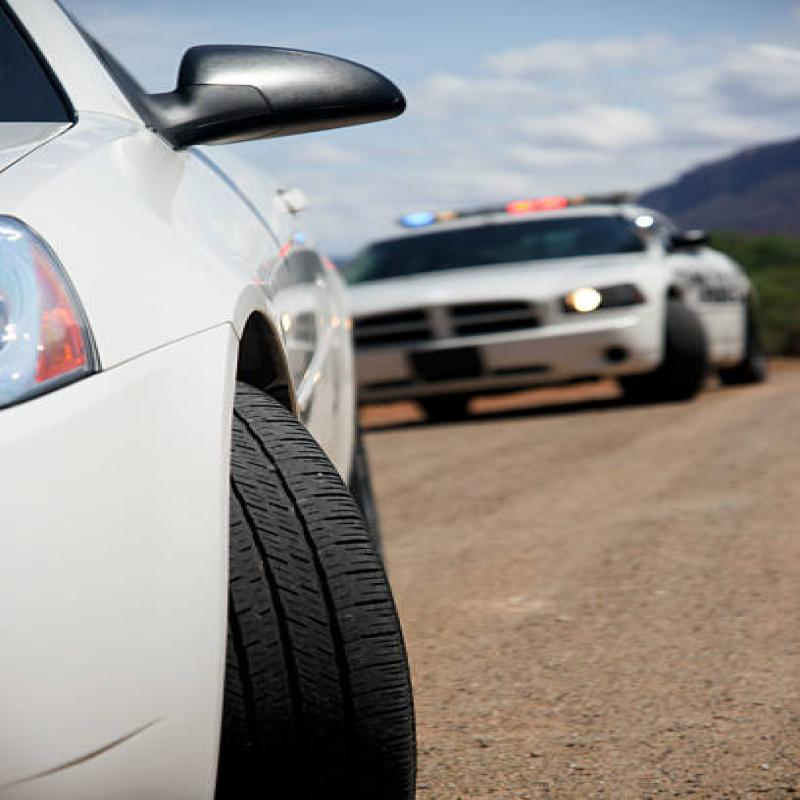AmbulanceSiren: (348, 158, 680, 244)
